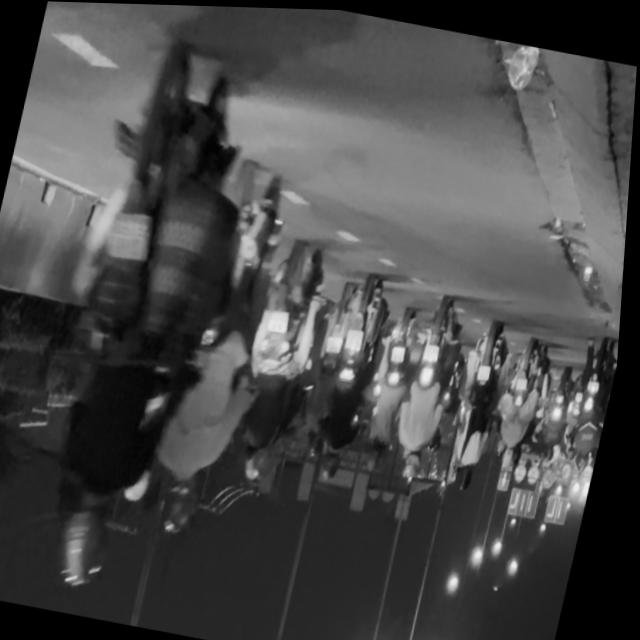helmet: (55, 486, 128, 592), (163, 469, 206, 535)
licenseplate: (1, 14, 279, 613), (143, 153, 306, 543), (227, 233, 340, 489)
nohelmet: (103, 209, 157, 262)
